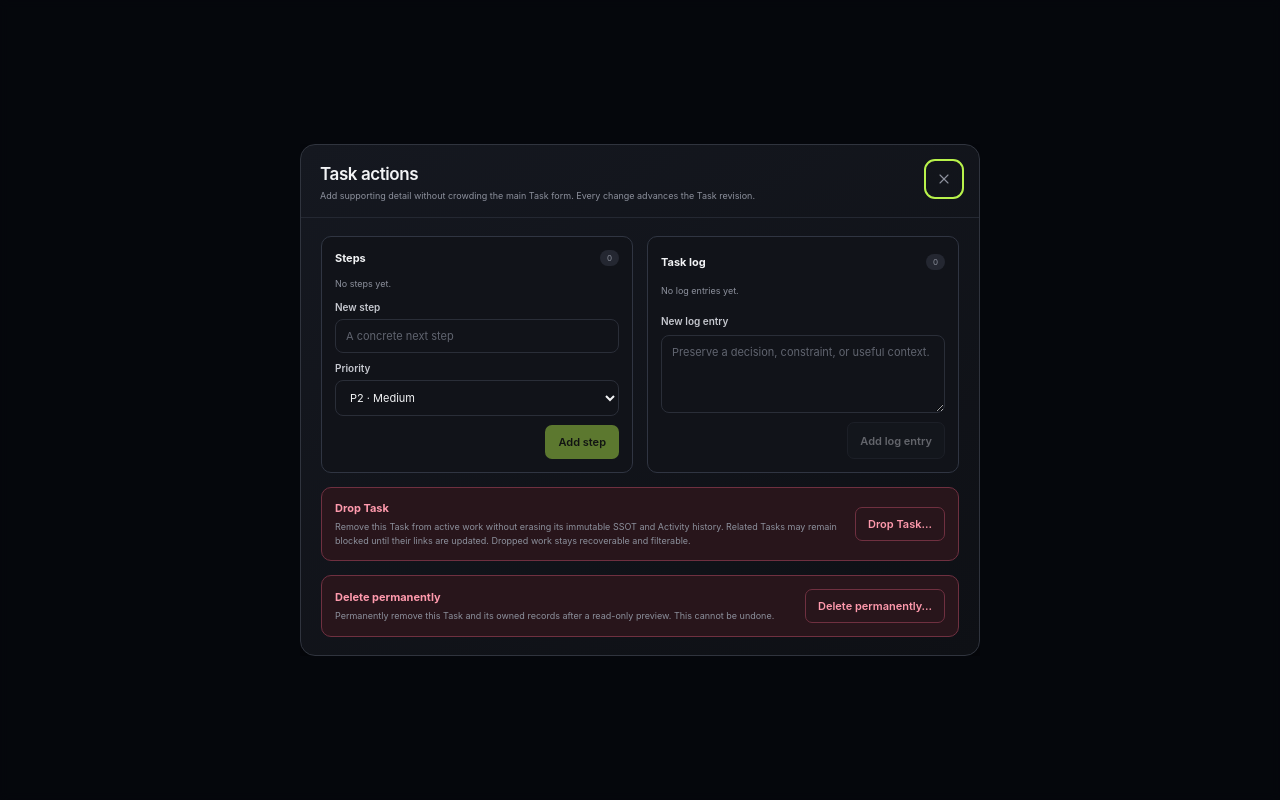
Test: shows a read-only deletion preview before permanent delete is possible
Step 1. Click the button "Delete permanently…" → (875, 606), box x1=805 y1=589 x2=945 y2=623
(page scrolled)
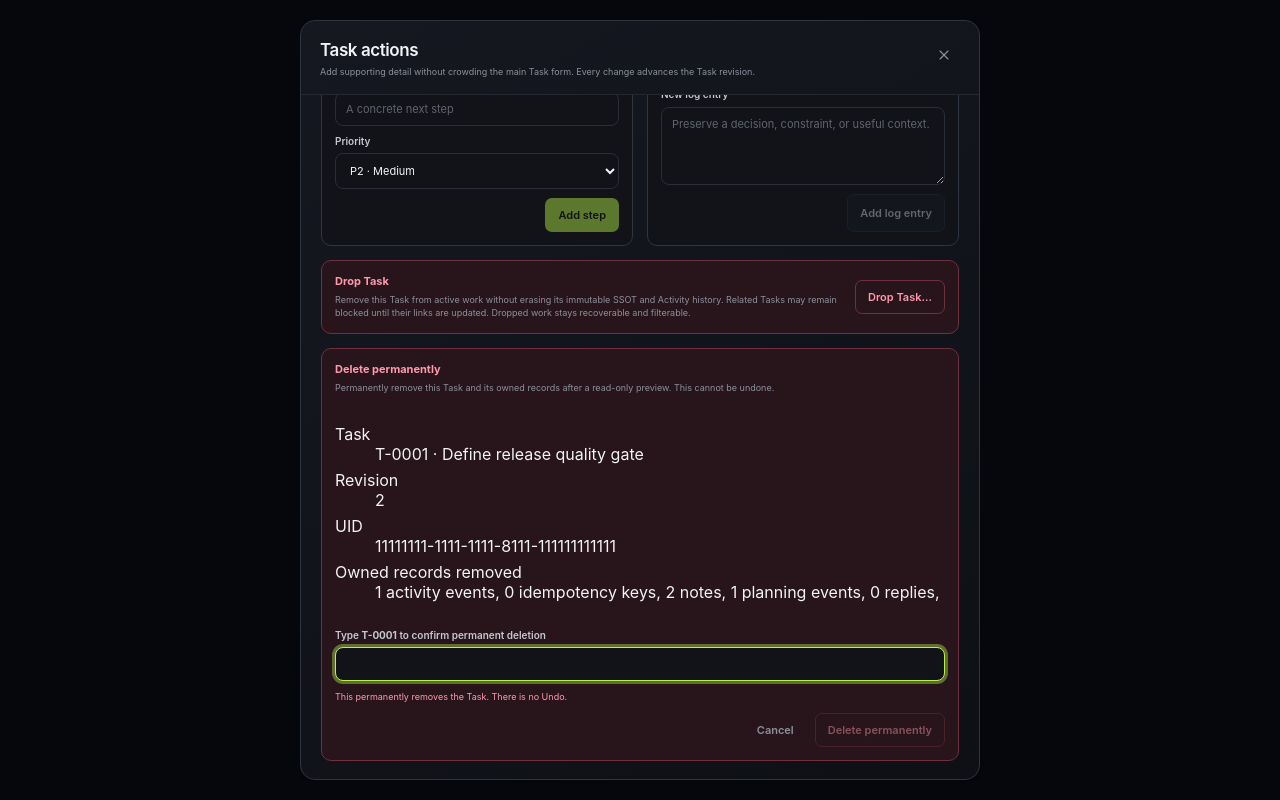
Expected: the button "Delete permanently" is disabled, x1=815 y1=713 x2=945 y2=747
Result: the text "2" is shown at x1=375 y1=490 x2=385 y2=510
Result: the text "11111111-1111-1111-8111-111111111111" is shown at x1=375 y1=536 x2=616 y2=556
